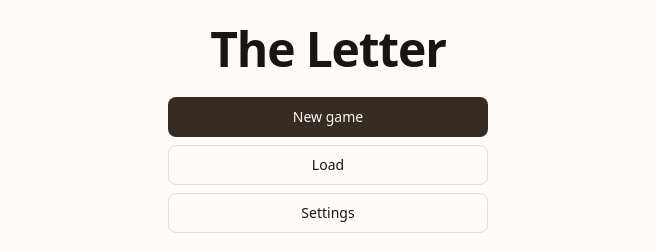
it: the pages › lists a save that can’t be read on the load page, and deletes it
The image size is (657, 250).
Later steps or results of the test are not shown.
Expected: the heading "The Letter" is shown, [210,16,446,81]
Click the button "Load".
click(328, 165)  # box [168,145,488,185]
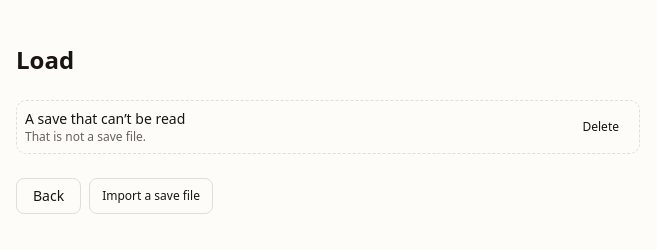
Now the list item "A save that can’t be read That is not a save file. Delete" is shown, box [16,100,640,154]
